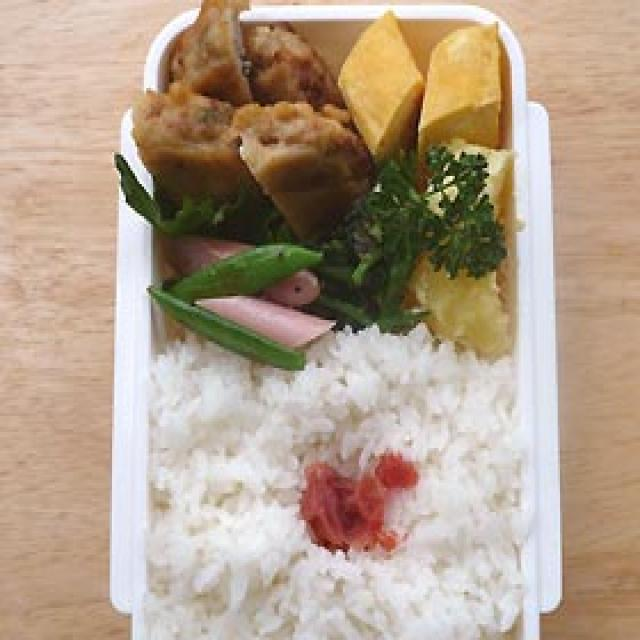Rice: (149, 343, 527, 636)
